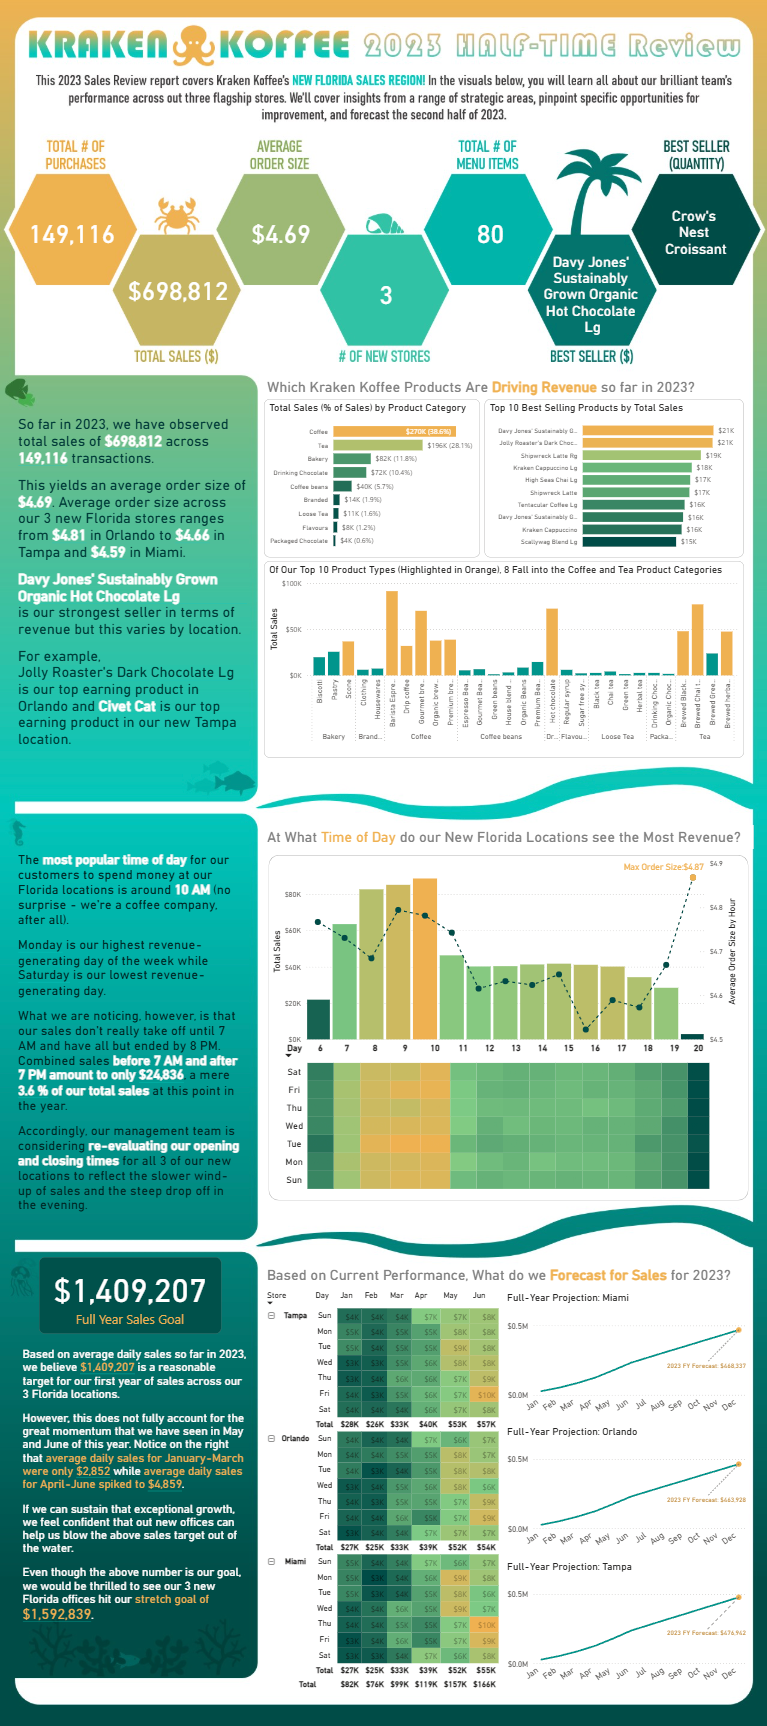

Layout of this report page (visuals, bound fields, positions):
{"tool":"powerbi","page":{"name":"Kraken Koffee Infographic","canvas":[1280,2880],"ordinal":0},"visuals":[{"type":"card","fields":{"Values":["_01_Core_Measures.Total Transactions"]},"box":[16,312,208,144],"z":0},{"type":"card","fields":{"Values":["_01_Core_Measures.Total Sales"]},"box":[192,408,208,144],"z":1000},{"type":"card","fields":{"Values":["_01_Core_Measures.Average Order Size"]},"box":[400,312,136,144],"z":2000},{"type":"card","fields":{"Values":["_01_Core_Measures.Total Stores"]},"box":[568,416,152,144],"z":3000},{"type":"card","fields":{"Values":["_01_Core_Measures.Total Products"]},"box":[744,312,144,144],"z":4000},{"type":"card","fields":{"Values":["_01_Core_Measures.Top Earner"]},"box":[888,400,200,176],"z":5000},{"type":"card","fields":{"Values":["_01_Core_Measures.Top Seller"]},"box":[1088,304,144,160],"z":6000},{"type":"clusteredBarChart","title":"Total Sales (% of Sales) by Product Category","fields":{"Category":["Product_Dim.product_category"],"Y":["_01_Core_Measures.Total Sales"]},"box":[440,664,360,264],"z":7000},{"type":"clusteredBarChart","title":"Top 10 Best Selling Products by Total Sales","fields":{"Category":["Product_Dim.product_detail"],"Y":["_01_Core_Measures.Total Sales"]},"box":[808,664,432,264],"z":8000},{"type":"clusteredColumnChart","title":"Of Our Top 10 Product Types (Highlighted in Orange), 8 Fall into the Coffee and Tea Product Categories","fields":{"Y":["_01_Core_Measures.Total Sales"],"Category":["Product_Dim.product_category","Product_Dim.product_type"]},"box":[440,936,800,328],"z":9000},{"type":"textbox","box":[440,624,808,40],"z":10000},{"type":"textbox","box":[440,1376,816,40],"z":11000},{"type":"shape","box":[448,1424,800,576],"z":12000},{"type":"pivotTable","fields":{"Values":["_01_Core_Measures.Total Sales"],"Rows":["Date.Day Name Short"],"Columns":["Kraken_Koffee_Fact.Hour"]},"box":[464,1728,736,272],"z":13000},{"type":"lineStackedColumnComboChart","fields":{"Category":["Kraken_Koffee_Fact.Hour"],"Y":["_01_Core_Measures.Total Sales"],"Y2":["_01_Core_Measures.Average Order Size","_02_Nested_Measures.Max AOS Marker"]},"box":[448,1424,784,320],"z":14000},{"type":"lineChart","title":"Full-Year Projection: Tampa","fields":{"Category":["Forecast Date Table.Month Short"],"Y":["_04_Forecast.Forecast","_04_Forecast.Forecast Marker"]},"box":[840,2600,408,220],"z":15000},{"type":"lineChart","title":"Full-Year Projection: Miami","fields":{"Category":["Forecast Date Table.Month Short"],"Y":["_04_Forecast.Forecast","_04_Forecast.Forecast Marker"]},"box":[840,2152,408,220],"z":16000},{"type":"lineChart","title":"Full-Year Projection: Orlando","fields":{"Category":["Forecast Date Table.Month Short"],"Y":["_04_Forecast.Forecast","_04_Forecast.Forecast Marker"]},"box":[840,2376,408,220],"z":17000},{"type":"pivotTable","fields":{"Rows":["Store_Dim.store_location","Date.Day Name Short"],"Values":["_01_Core_Measures.Total Sales"],"Columns":["Forecast Date Table.Month Short"]},"box":[434.7,2141.3,408,696],"z":18000},{"type":"textbox","box":[440,2104,816,40],"z":19000},{"type":"textbox","box":[24,688,392,584],"z":20000},{"type":"textbox","box":[24,1416,384,648],"z":21000},{"type":"card","fields":{"Values":["_04_Forecast.Forecast"]},"box":[64,2096,304,128],"z":22000},{"type":"textbox","box":[32,2240,384,496],"z":23000}]}

Visuals, with their boxes in screenshot pixels (x1, y1, x2, y2), scaled from the page's 1280x2880 canvas onto the 767x1726 screenshot:
card - _01_Core_Measures.Total Transactions: bbox(10, 187, 134, 273)
card - _01_Core_Measures.Total Sales: bbox(115, 245, 240, 331)
card - _01_Core_Measures.Average Order Size: bbox(240, 187, 321, 273)
card - _01_Core_Measures.Total Stores: bbox(340, 249, 431, 336)
card - _01_Core_Measures.Total Products: bbox(446, 187, 532, 273)
card - _01_Core_Measures.Top Earner: bbox(532, 240, 652, 345)
card - _01_Core_Measures.Top Seller: bbox(652, 182, 738, 278)
"Total Sales (% of Sales) by Product Category" clusteredBarChart: bbox(264, 398, 479, 556)
"Top 10 Best Selling Products by Total Sales" clusteredBarChart: bbox(484, 398, 743, 556)
"Of Our Top 10 Product Types (Highlighted in Orange), 8 Fall into the Coffee and Tea Product Categories" clusteredColumnChart: bbox(264, 561, 743, 758)
textbox: bbox(264, 374, 748, 398)
textbox: bbox(264, 825, 753, 849)
shape: bbox(268, 853, 748, 1199)
pivotTable - _01_Core_Measures.Total Sales x Date.Day Name Short: bbox(278, 1036, 719, 1199)
lineStackedColumnComboChart - Kraken_Koffee_Fact.Hour x _01_Core_Measures.Total Sales: bbox(268, 853, 738, 1045)
"Full-Year Projection: Tampa" lineChart: bbox(503, 1558, 748, 1690)
"Full-Year Projection: Miami" lineChart: bbox(503, 1290, 748, 1422)
"Full-Year Projection: Orlando" lineChart: bbox(503, 1424, 748, 1556)
pivotTable - Store_Dim.store_location x Date.Day Name Short: bbox(260, 1283, 505, 1700)
textbox: bbox(264, 1261, 753, 1285)
textbox: bbox(14, 412, 249, 762)
textbox: bbox(14, 849, 244, 1237)
card - _04_Forecast.Forecast: bbox(38, 1256, 221, 1333)
textbox: bbox(19, 1342, 249, 1640)
